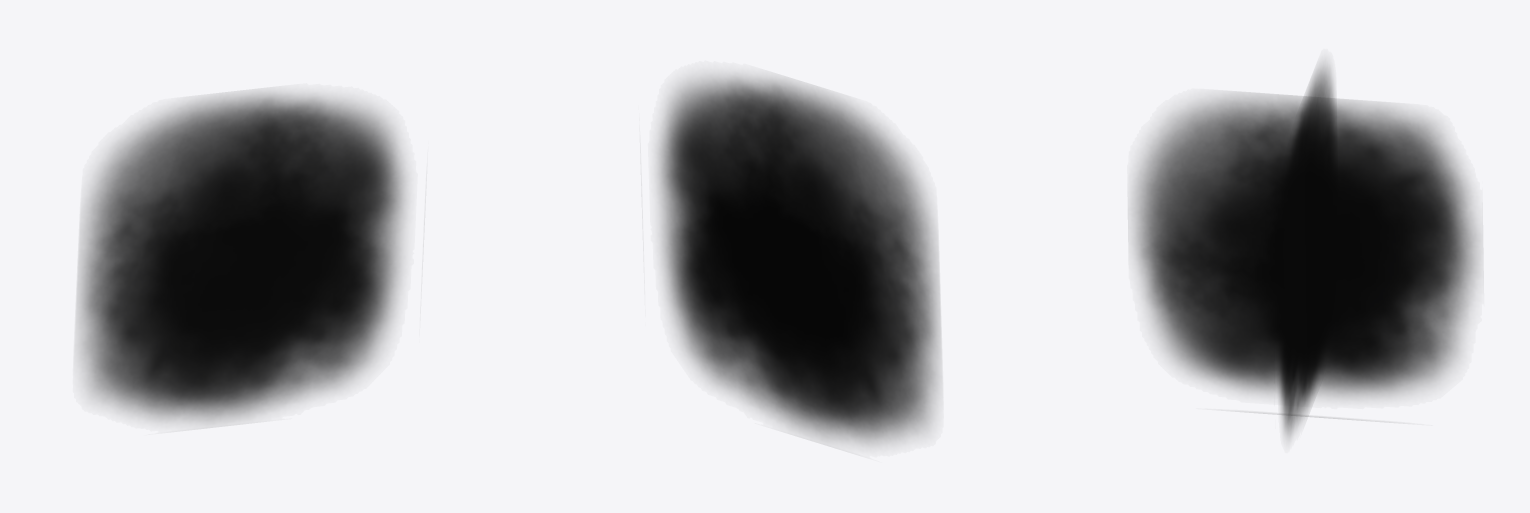
File: darkness.glb
3 views of the same model, side by side, from view 1: azimuth 30°, elevation 25°; view 2: azimuth 150°, elevation 25°; view 3: azimuth 270°, elevation 25° (orthographic). The views are drawn at different scales.
Parts seen in each view (by area): view 1: Cube.002; view 2: Cube.002; view 3: Cube.002.
Part boxes in pixels (<box>): Cube.002: <box>77,92,405,422</box>; Cube.002: <box>658,75,939,444</box>; Cube.002: <box>1133,64,1478,437</box>.
Bounding box in the file's own units: 1.16 × 1.04 × 1.16.
1 material, 1 textured.
